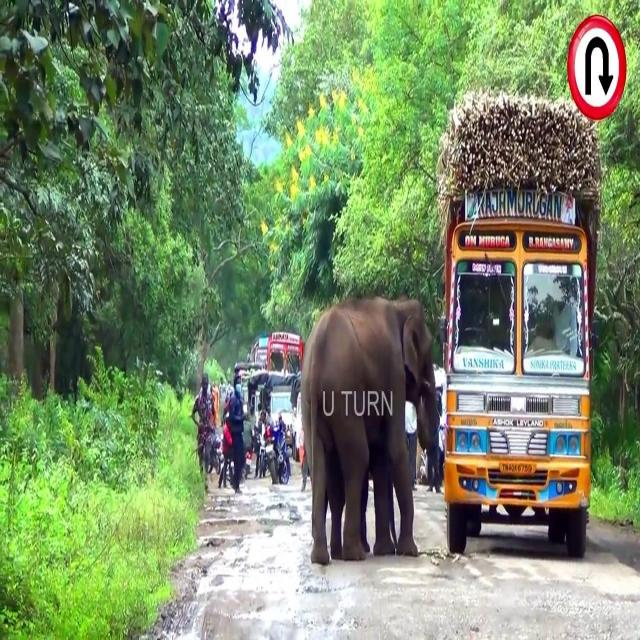Elephant: (300, 295, 440, 566)
